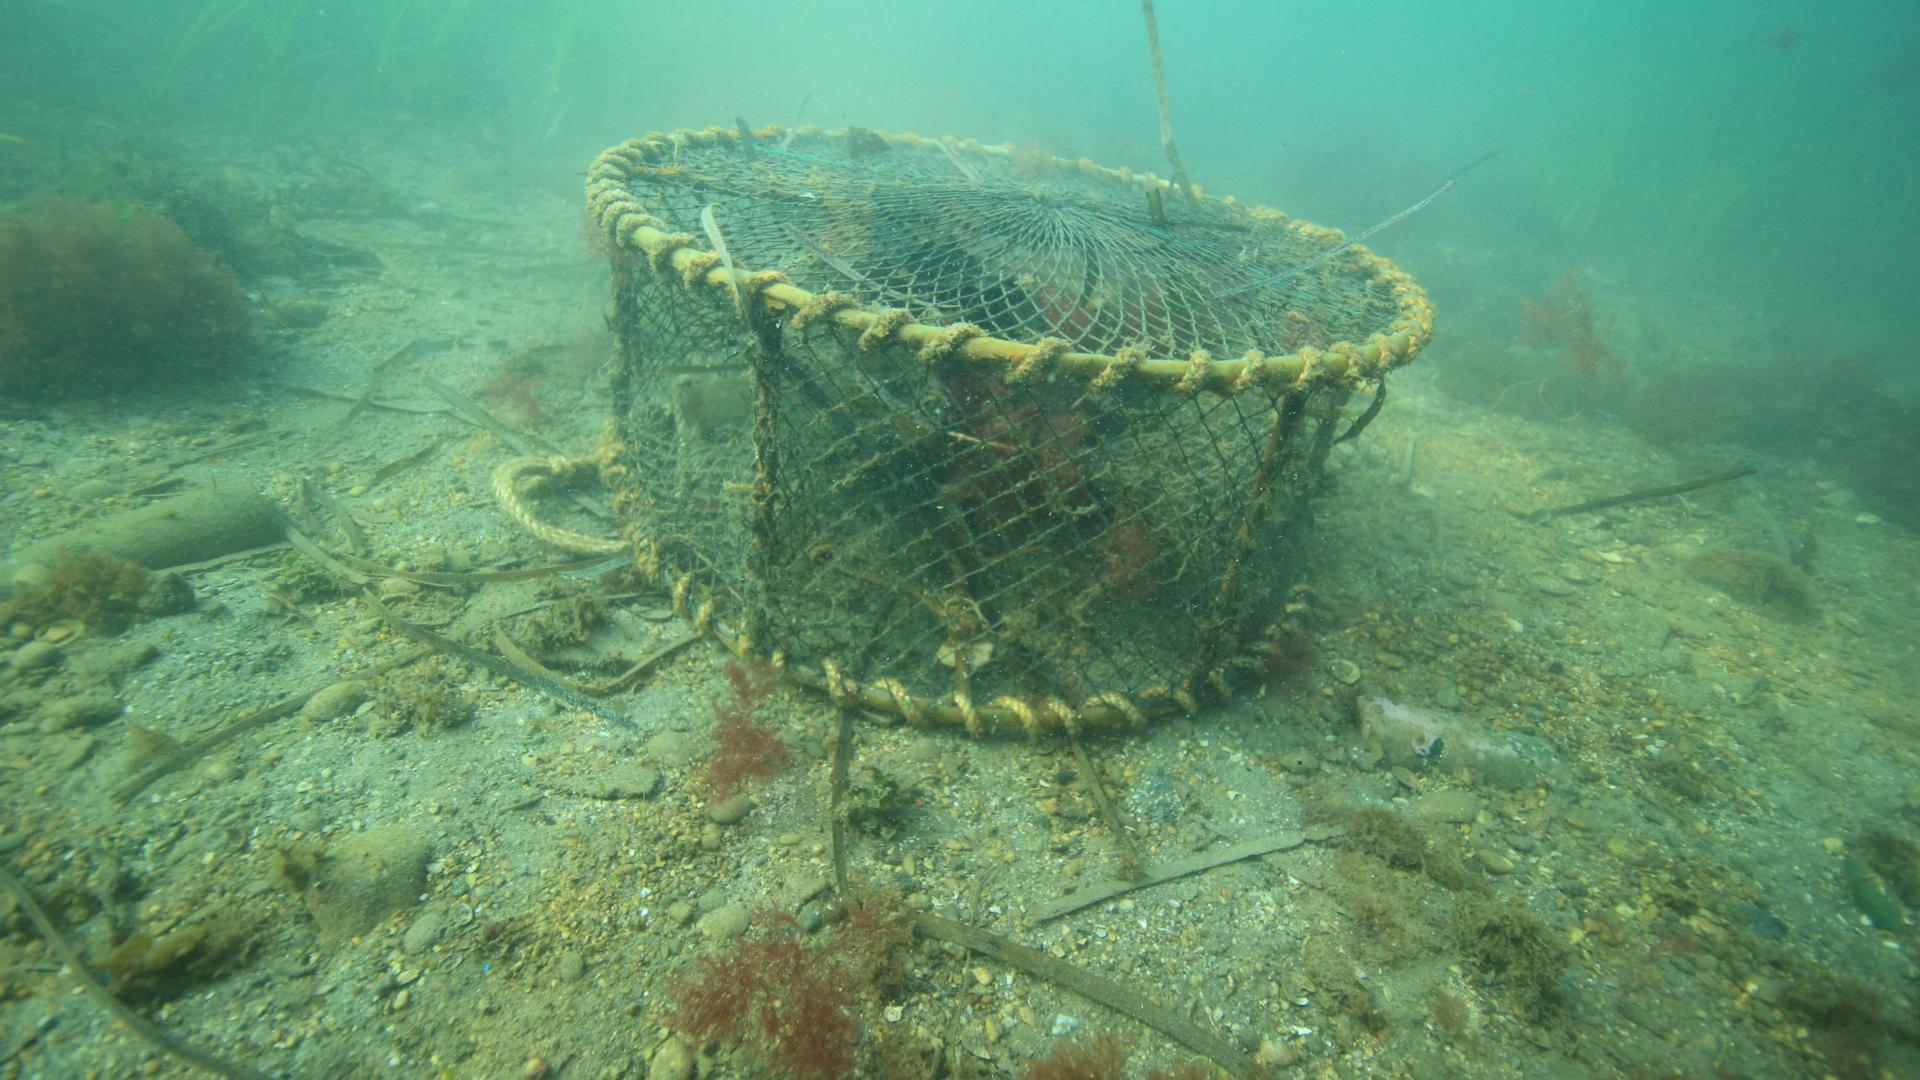bundle of ropes: (491, 452, 636, 556)
circular fish trap: (582, 123, 1431, 742)
